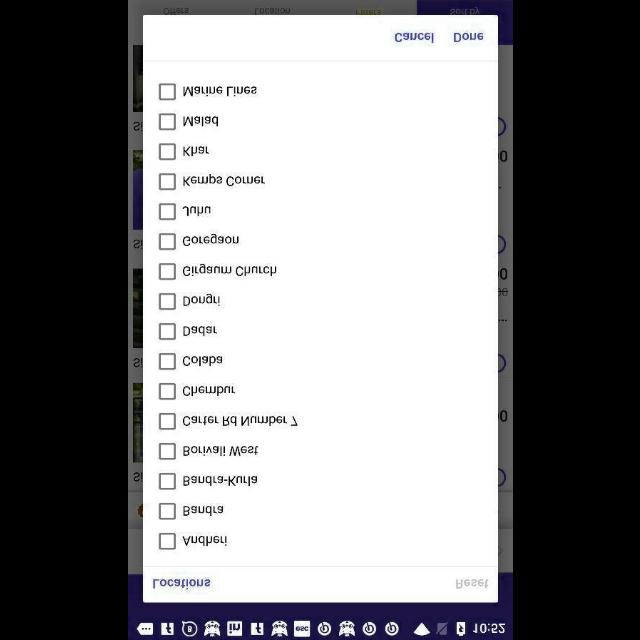checkbox: (158, 502, 176, 520), (158, 412, 176, 430), (158, 532, 175, 550), (158, 472, 175, 490), (158, 442, 175, 460), (158, 384, 176, 401), (158, 354, 175, 371), (158, 324, 175, 341), (158, 233, 175, 250), (158, 203, 175, 220), (158, 173, 175, 190), (157, 114, 175, 130), (158, 294, 175, 310), (158, 264, 175, 280), (158, 144, 175, 160), (158, 84, 175, 100)
panel: (142, 14, 498, 602)
text: (182, 415, 298, 427), (182, 263, 276, 277), (183, 174, 265, 186), (183, 475, 257, 487), (183, 85, 257, 96), (182, 446, 258, 456), (152, 578, 210, 590), (182, 234, 238, 246), (182, 386, 235, 396), (182, 534, 226, 546), (183, 504, 223, 516), (393, 32, 433, 44), (182, 294, 220, 306), (182, 356, 222, 366), (182, 115, 218, 126), (454, 578, 488, 588), (182, 204, 210, 216), (184, 326, 216, 336), (182, 146, 208, 158), (453, 32, 483, 42)
uppertaskbar: (128, 617, 512, 639)
